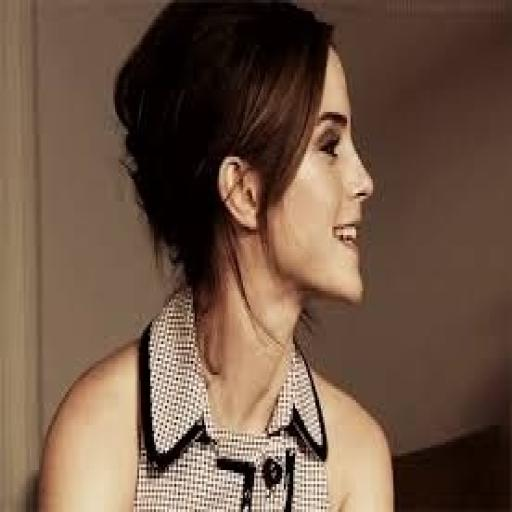laughing: (30, 0, 410, 509)
